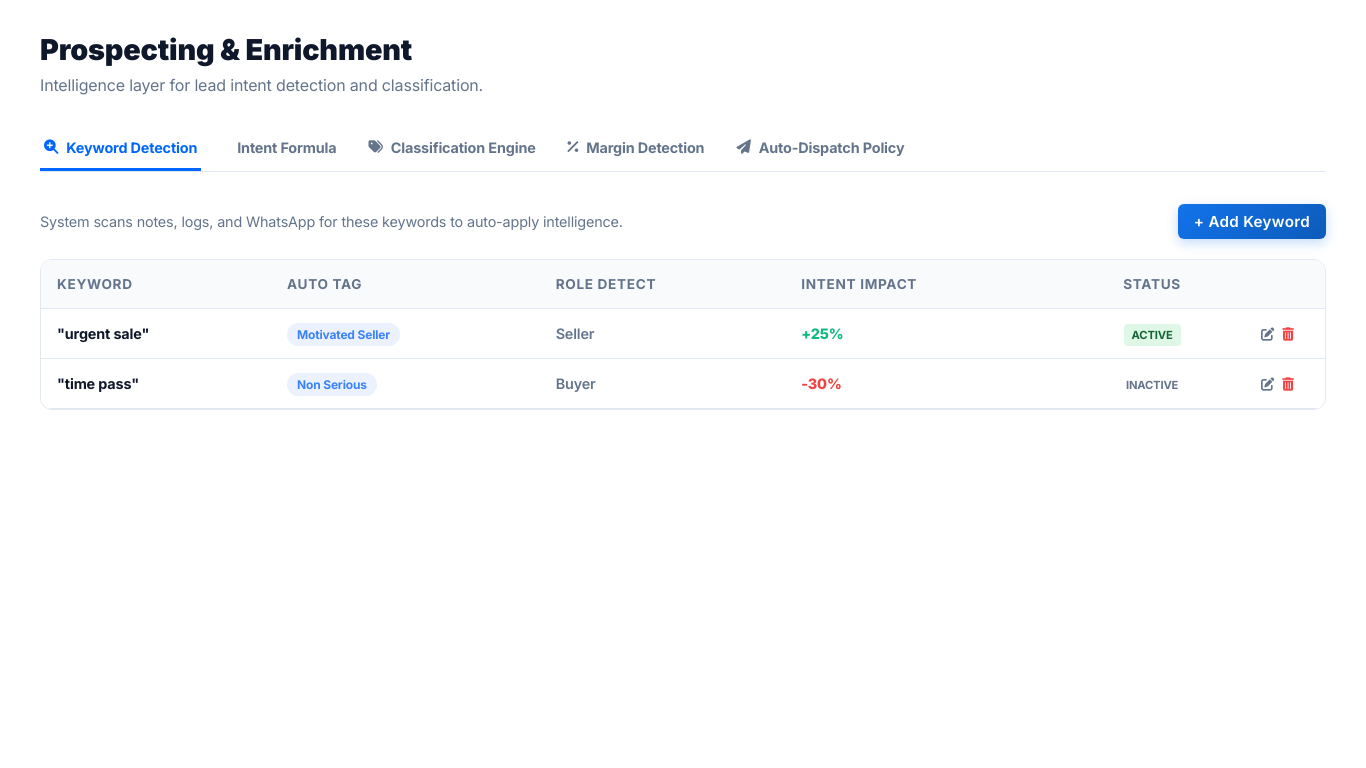
it: EnrichmentSettingsPage with DataTable › switches between tabs (Formula, Classification, Margin) and renders controls
The image size is (1366, 768).
// Switch to Formula tab
Click the text "Intent Formula" at (287, 148), box [237,139,336,156]
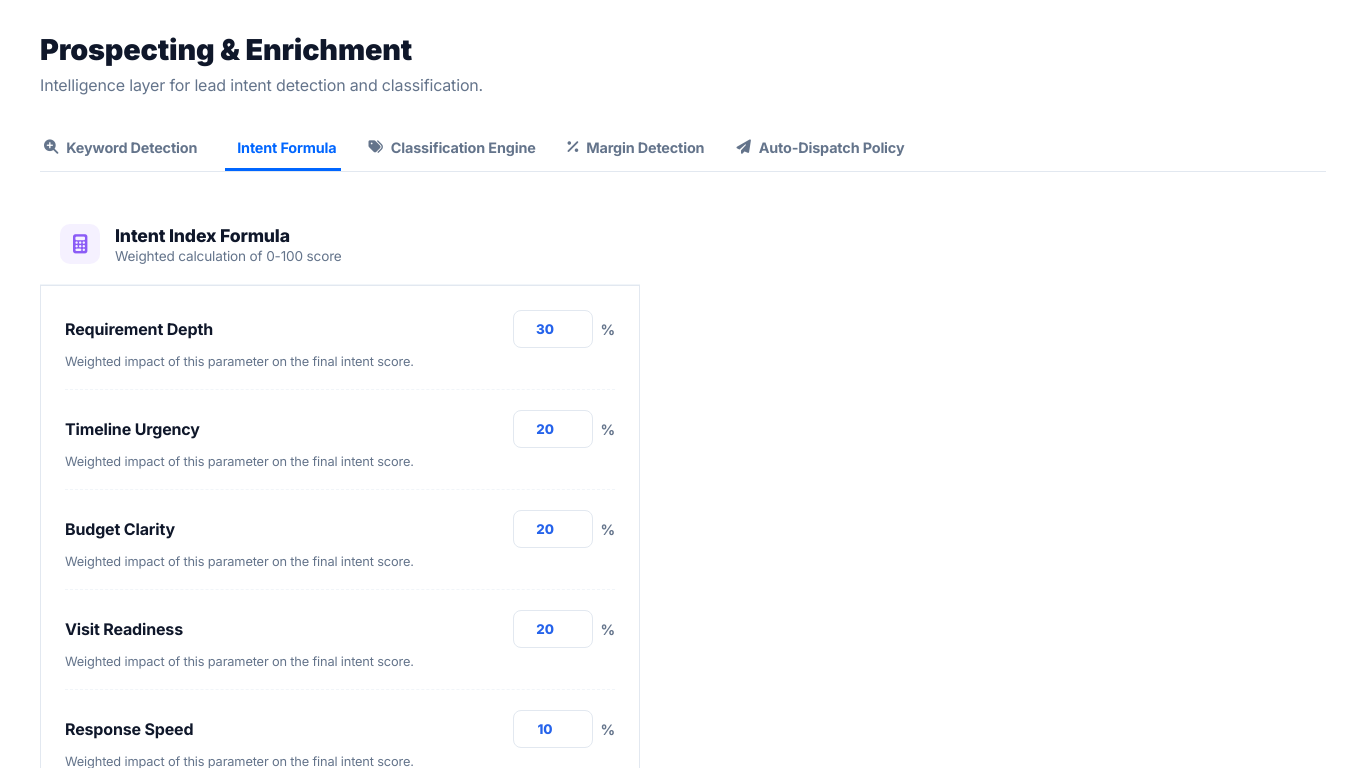
Check: the heading "Intent Index Formula" is shown, box [115,224,290,246]
Check: the text "Requirement Depth" is shown, box [65,319,213,339]
// Switch to Classification tab
Click the text "Classification Engine" at (452, 148), box [368,139,536,156]
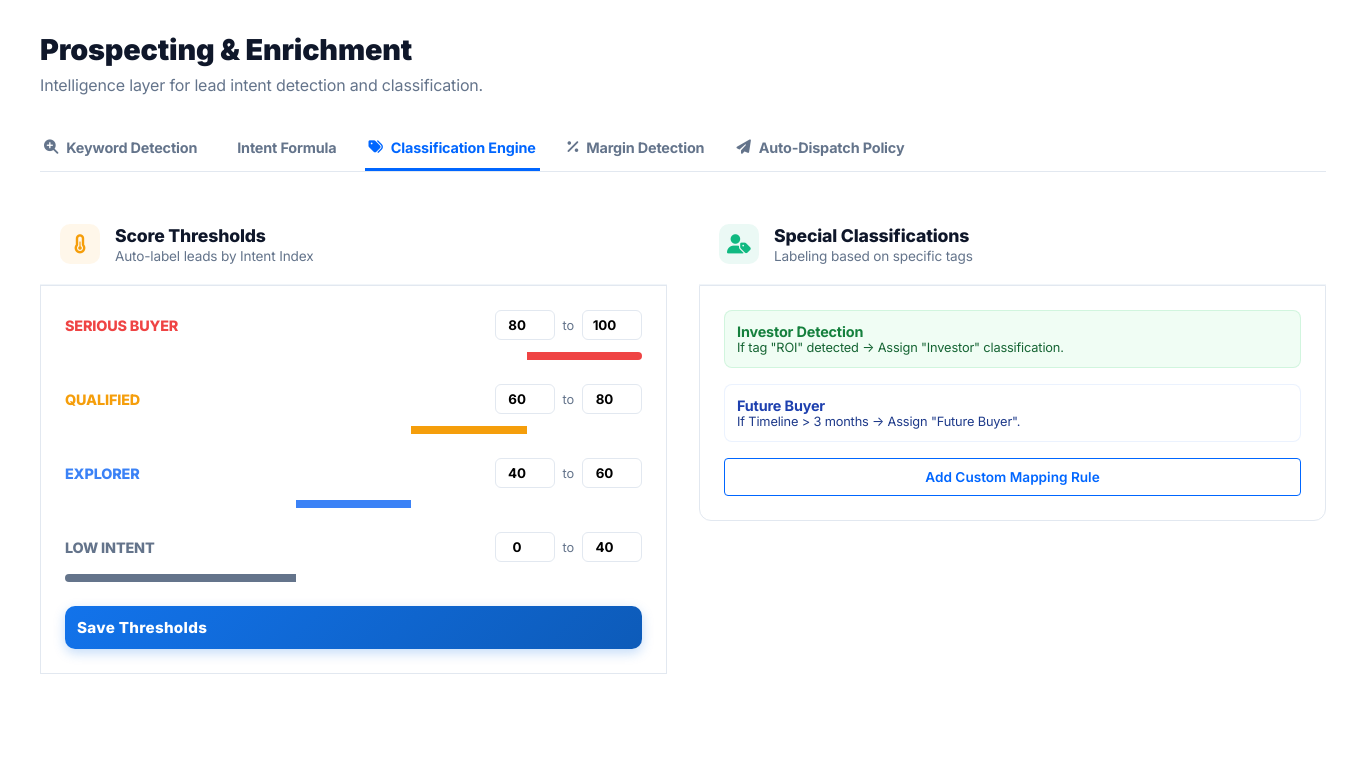
Check: the heading "Score Thresholds" is shown, box [115,224,266,246]
Check: the text "Serious Buyer" is shown, box [65,316,178,334]
// Switch to Margin tab
Click the text "Margin Detection" at (636, 148), box [568,139,704,156]
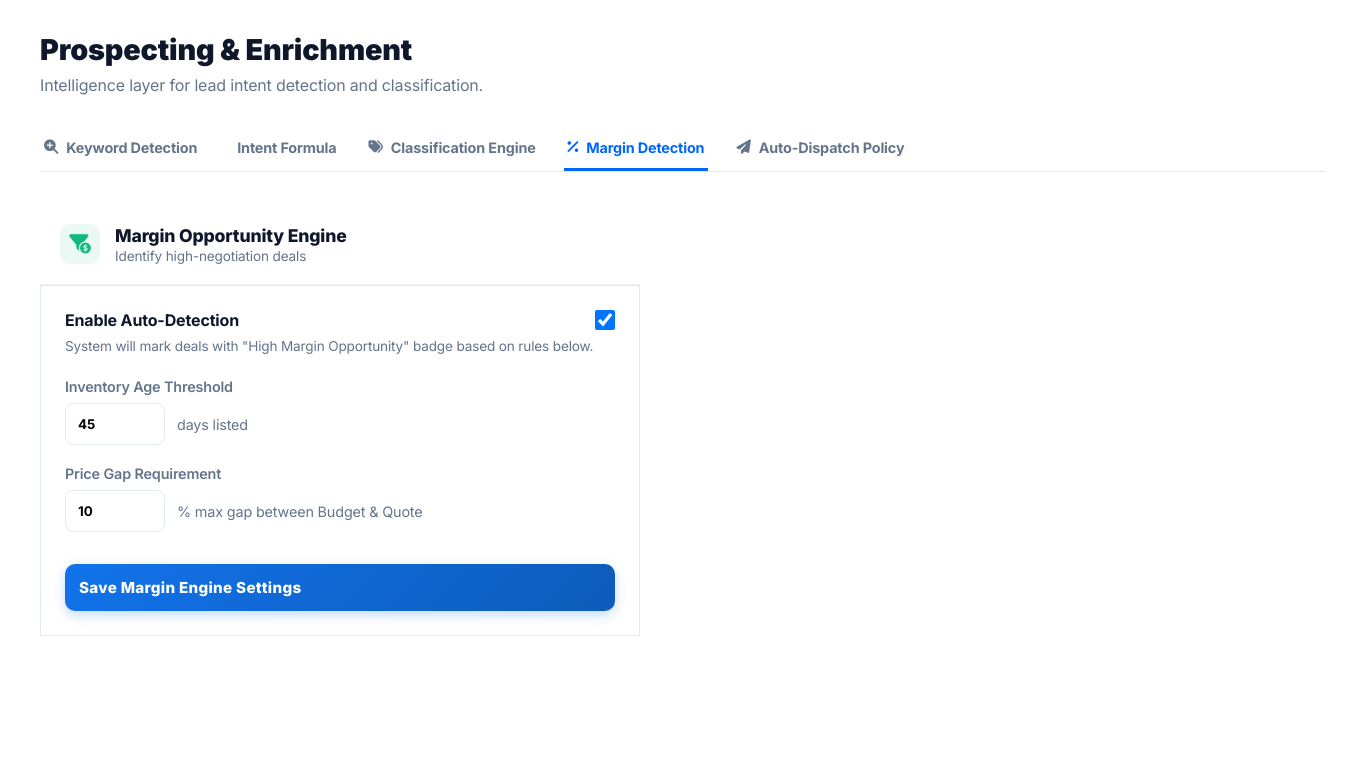
Check: the heading "Margin Opportunity Engine" is shown, box [115,224,347,246]
Check: the text "Inventory Age Threshold" is shown, box [65,378,233,395]
